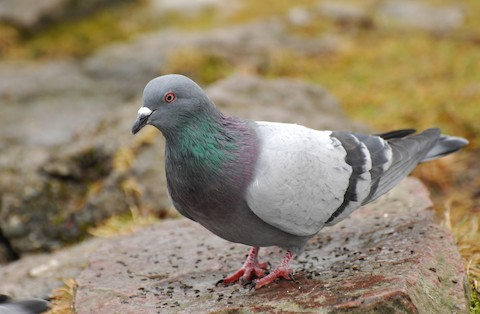pigeon: (130, 69, 474, 294)
